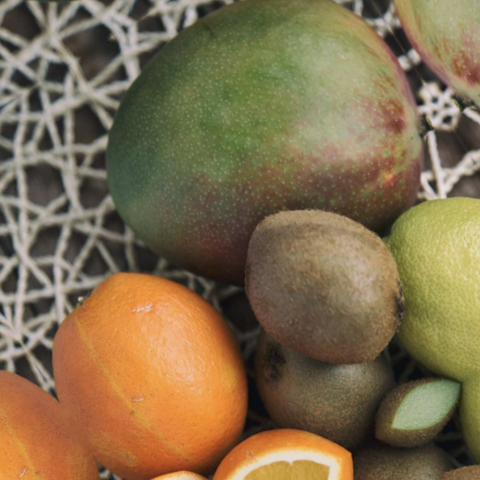kiwi: (22, 0, 477, 360), (211, 166, 433, 401)
orange: (12, 228, 289, 480)
